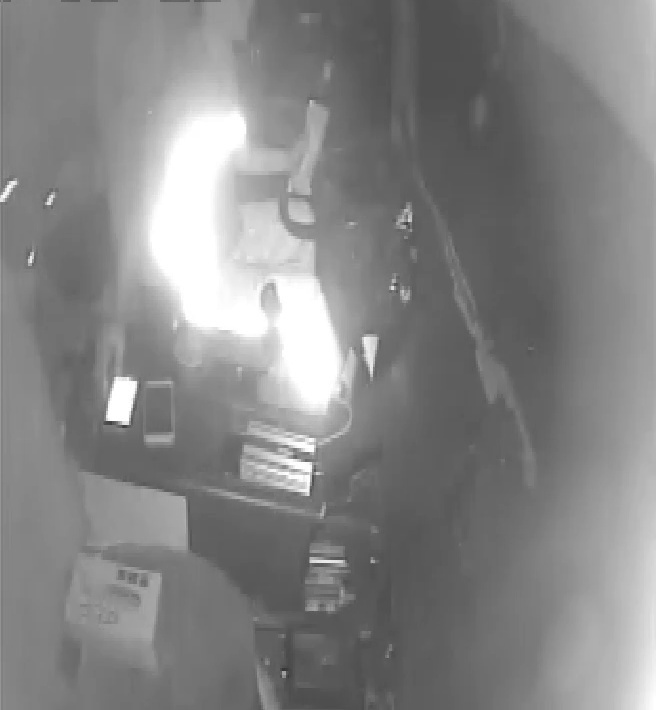cellphone: (101, 371, 139, 430)
